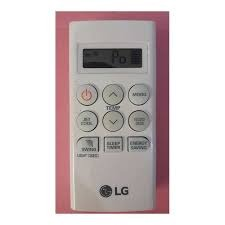remote control: (70, 26, 159, 209)
